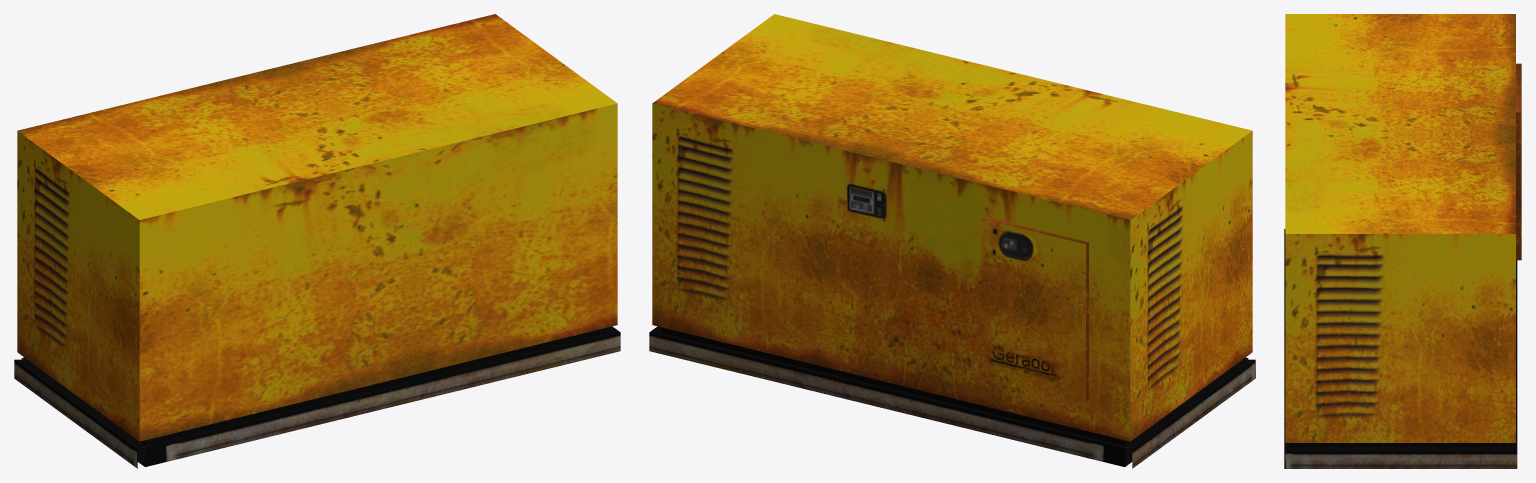
File: GenEnerg.fbx
3 views of the same model, side by side, from view 1: azimuth 30°, elevation 25°; view 2: azimuth 150°, elevation 25°; view 3: azimuth 270°, elevation 25° (orthographic). The views are drawn at different scales.
Parts seen in each view (by area): view 1: energ; view 2: energ; view 3: energ.
Part boxes in pixels (box(x1,y1,x2,y2)): energ: box(14, 14, 620, 468); energ: box(649, 14, 1255, 468); energ: box(1284, 14, 1521, 468).
Size of the model in its own units: 2.45 by 1.2 by 1.11.
